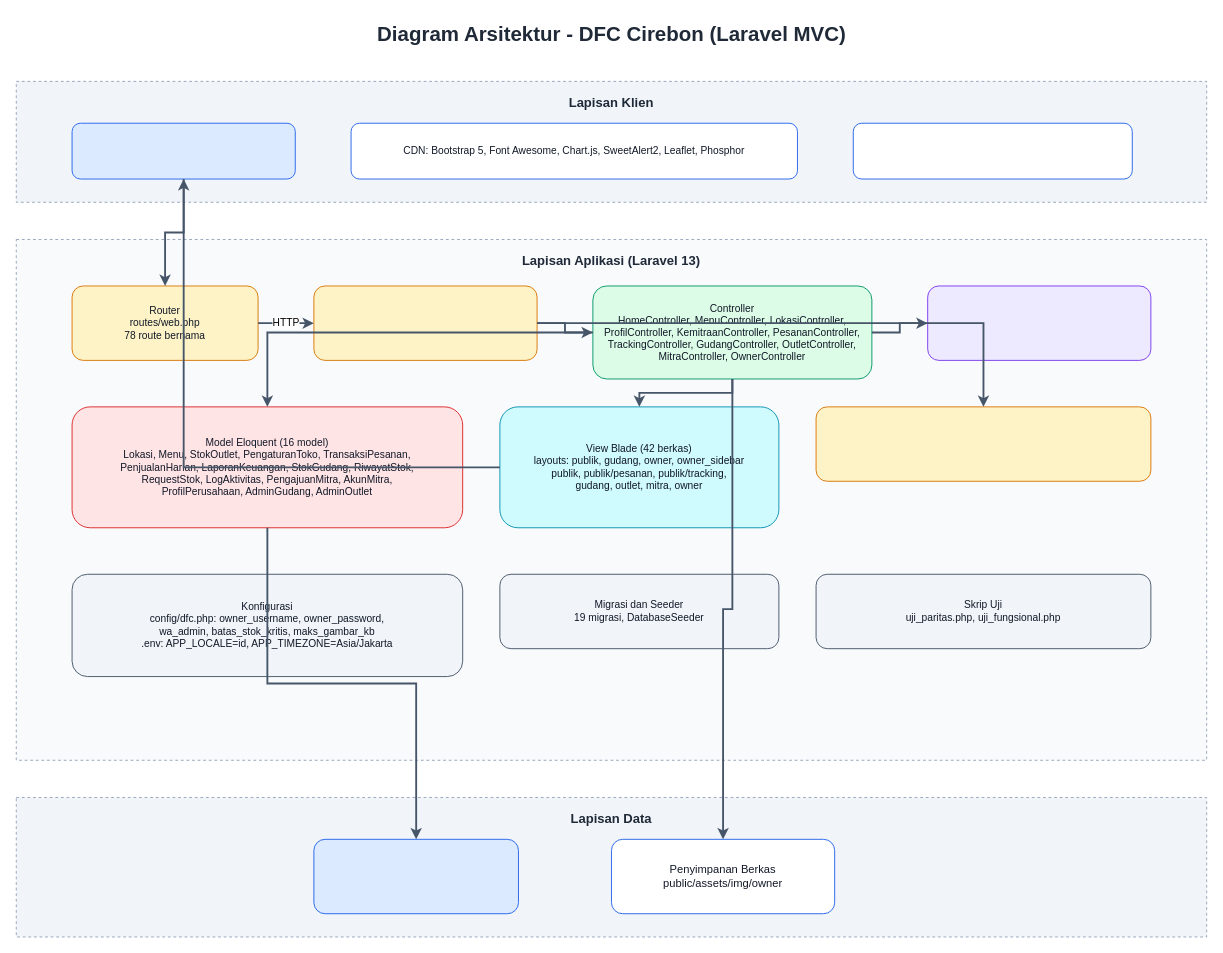
Some shapes in this 1223 by 953 pixel diagram are drawn without their labels. The centre of each missing label's shape, as x and y in pixels:
"Aset lokal: CSS dan gambar" goes at point (992, 150).
"Auth Guard (config/auth.php) web | outlet | gudang | mitra" goes at point (983, 443).
"Layanan LayananOwner, BantuanTanggal" goes at point (1039, 322).
"Middleware jaga.outlet | jaga.gudang jaga.mitra | jaga.owner VerifyCsrfToken" goes at point (425, 322).
"MySQL dfc_db 26 tabel" goes at point (415, 876).
"Peramban (Browser)" goes at point (183, 150).
